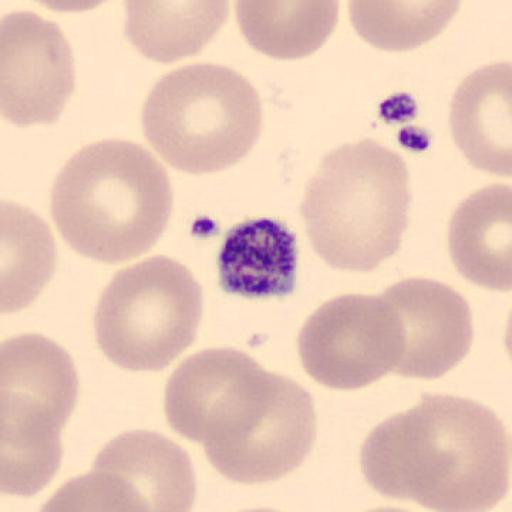Platelet: (214, 214, 302, 302)
RBC: (356, 390, 509, 512), (296, 136, 414, 276), (49, 136, 176, 266), (140, 60, 264, 177), (202, 367, 320, 486), (91, 252, 206, 374), (402, 390, 511, 512), (162, 344, 273, 446), (294, 292, 407, 392), (372, 274, 476, 382), (358, 400, 456, 504), (90, 427, 199, 512), (1, 8, 77, 129), (3, 330, 81, 432), (448, 60, 512, 176), (446, 181, 512, 293), (122, 0, 234, 65), (233, 0, 342, 63), (1, 390, 64, 499), (2, 197, 58, 316), (346, 0, 463, 54), (32, 469, 156, 512), (346, 499, 463, 512), (19, 0, 123, 14), (344, 503, 458, 512), (212, 503, 300, 512)
